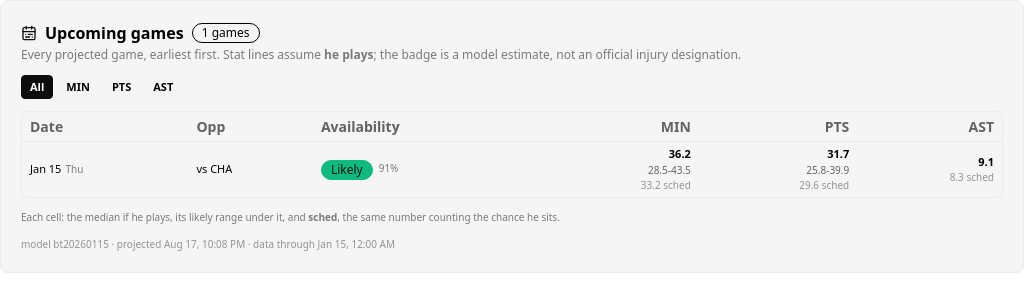
Test: PlayerUpcomingGames › narrows the table to one stat through the picker and back again
This screenshot has width=1024, height=290.
Check: the tab "All" is shown, box [21, 75, 53, 99]
Check: the tab "MIN" is shown, box [57, 75, 99, 99]
Step 1. Click the tab "PTS" → (122, 87), box [103, 75, 140, 99]
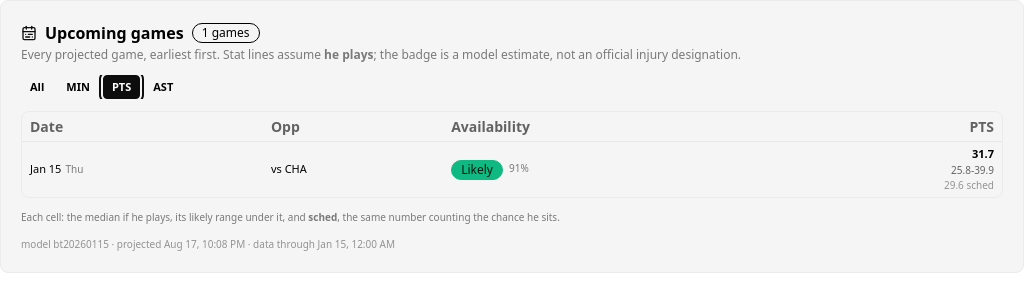
Check: the column heading "PTS" is shown, box [773, 112, 1002, 142]
Step 2. Click the tab "All" → (37, 87), box [21, 75, 53, 99]
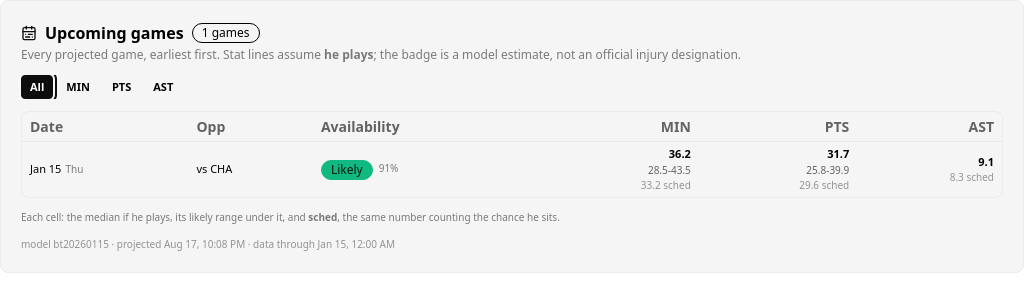
Check: the column heading "MIN" is shown, box [540, 112, 699, 142]
